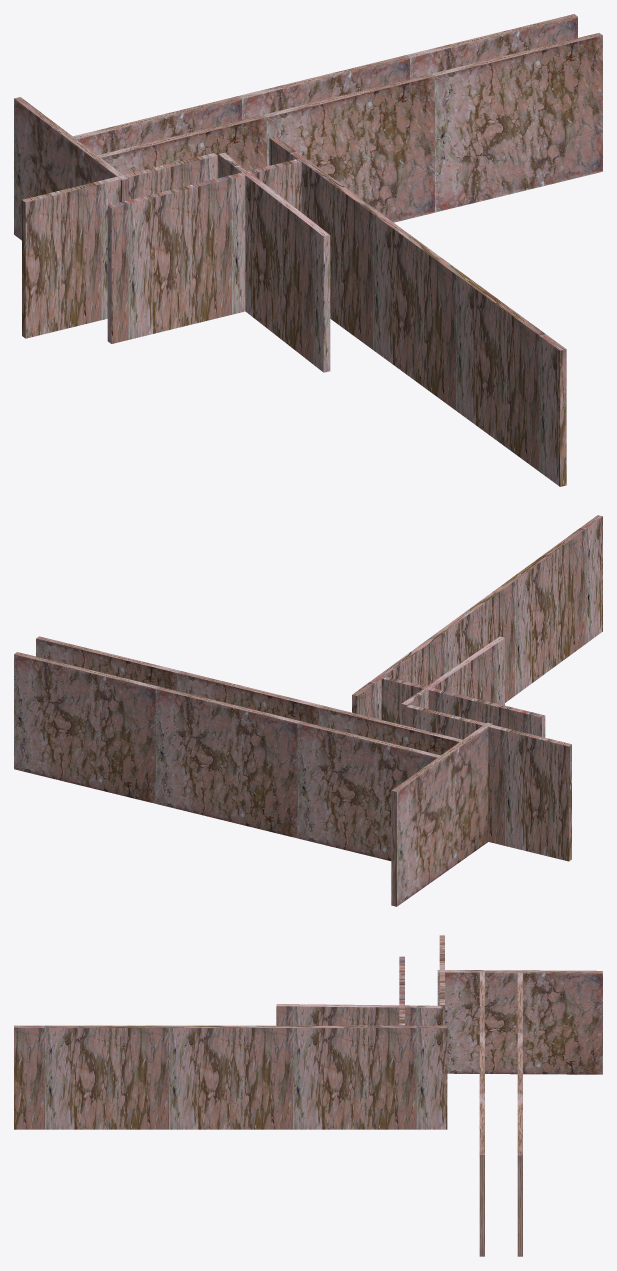
Rendered from walls.FBX.
The picture shows the model from 3 angles, top to bottom: view 1: azimuth 30°, elevation 25°; view 2: azimuth 150°, elevation 25°; view 3: azimuth 270°, elevation 25°; orthographic projection. The views are drawn at different scales.
Parts seen in each view (by area): view 1: Box003, Box004, Box002, Box005, Box001, Box007, Box006; view 2: Box007, Box004, Box006, Box005, Box003, Box002, Box001; view 3: Box004, Box006, Box001, Box003, Box007, Box005.
Boxes of the visible parts, x1=… form: Box003: x1=96, y1=33, x2=602, y2=222; Box004: x1=269, y1=136, x2=566, y2=486; Box002: x1=107, y1=158, x2=301, y2=343; Box005: x1=22, y1=153, x2=217, y2=338; Box001: x1=218, y1=152, x2=330, y2=372; Box007: x1=71, y1=14, x2=577, y2=154; Box006: x1=14, y1=97, x2=128, y2=240; Box007: x1=14, y1=652, x2=441, y2=860; Box004: x1=352, y1=515, x2=602, y2=719; Box006: x1=391, y1=722, x2=492, y2=906; Box005: x1=406, y1=704, x2=571, y2=861; Box003: x1=36, y1=636, x2=463, y2=755; Box002: x1=380, y1=676, x2=545, y2=737; Box001: x1=401, y1=636, x2=504, y2=725; Box004: x1=14, y1=1025, x2=447, y2=1129; Box006: x1=437, y1=970, x2=602, y2=1074; Box001: x1=276, y1=1004, x2=441, y2=1025; Box003: x1=479, y1=971, x2=484, y2=1256; Box007: x1=517, y1=972, x2=522, y2=1256; Box005: x1=439, y1=935, x2=444, y2=1025.
Size of the model in its own units: 480 by 103 by 544.
Materials: 1 (1 with a texture image).
